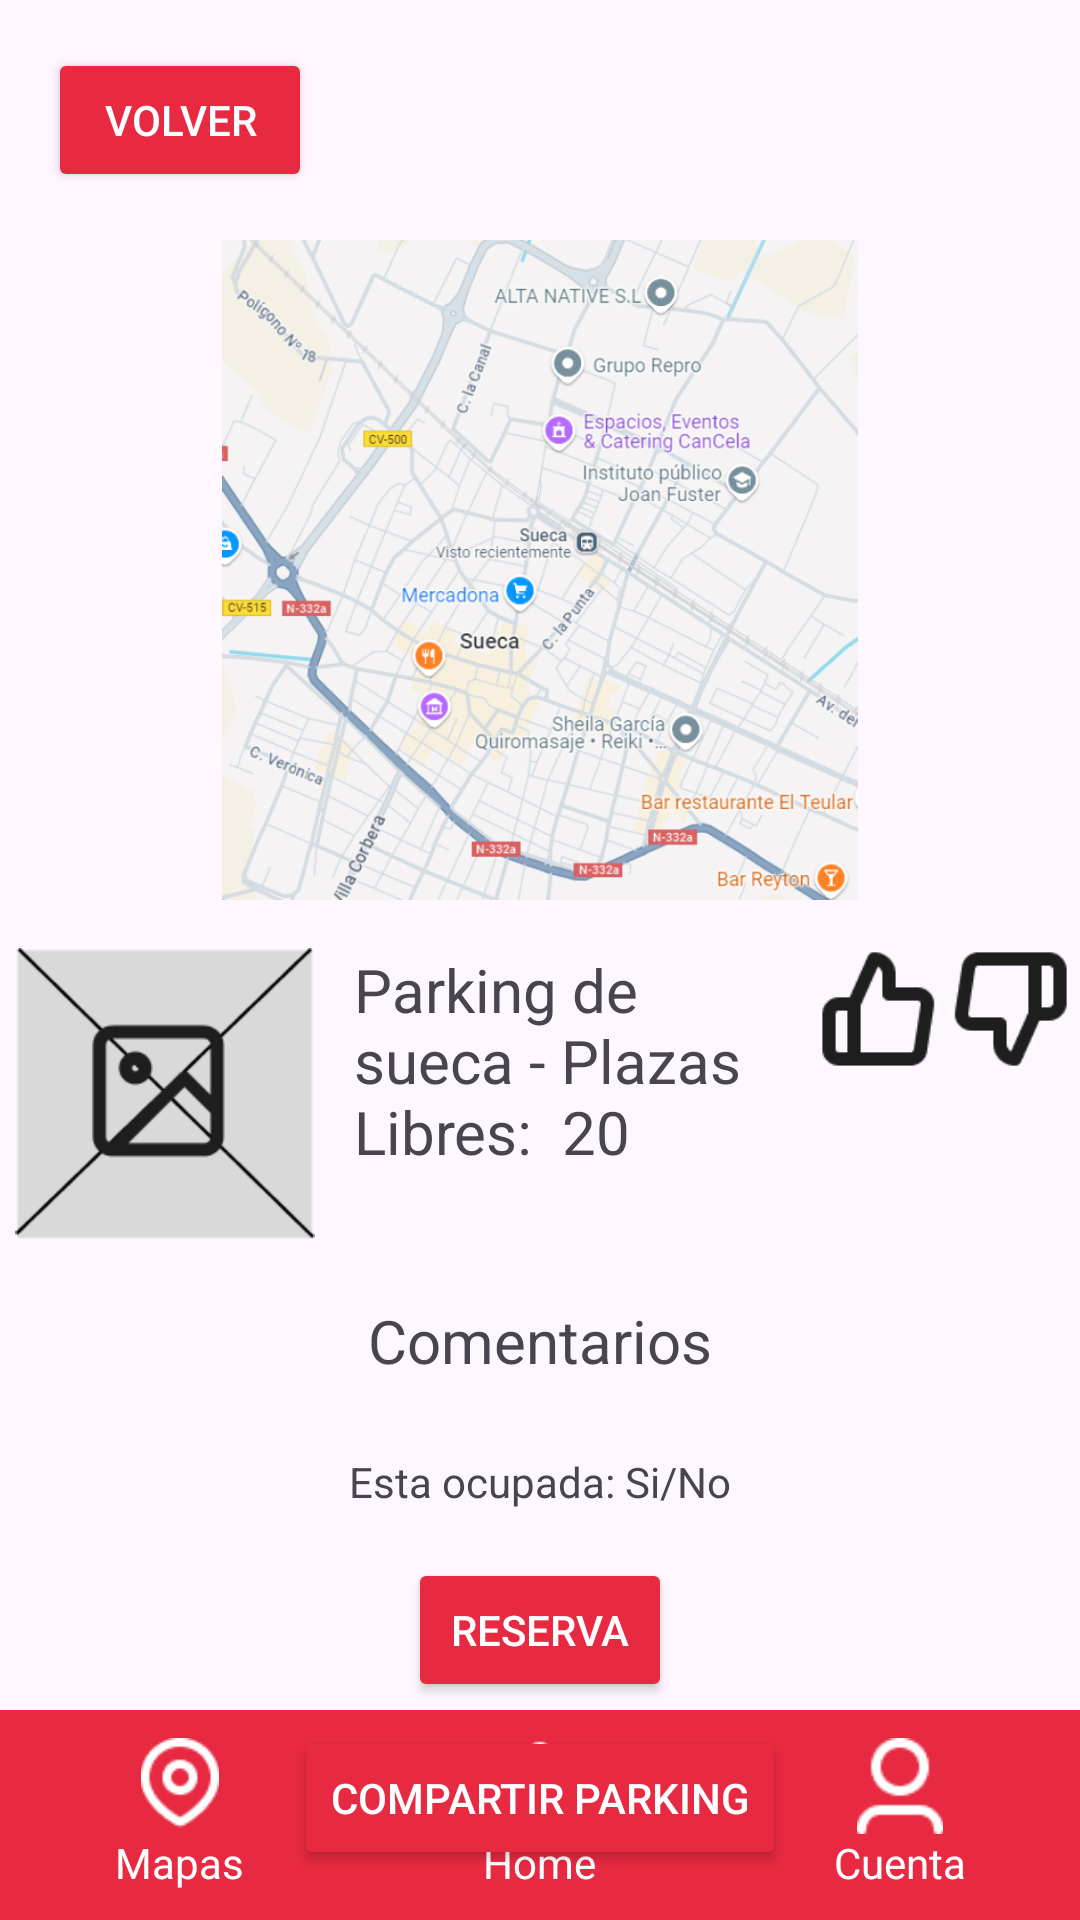

Where to tap for icons on this 1080px x 1920px app screen, as [x,y]:
dislike: [1010,1009]
like: [878,1009]
ubicacion: [180,1783]
